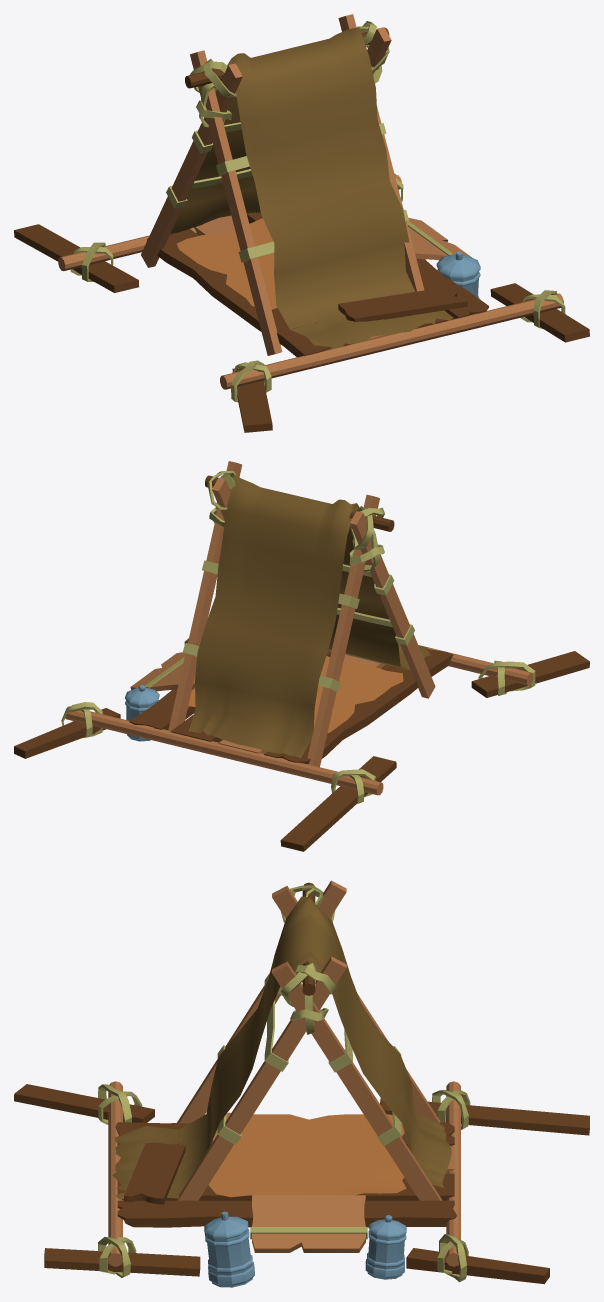
File: Main_Building.fbx
3 renders of one model, top to bottom at view 1: azimuth 30°, elevation 25°; view 2: azimuth 150°, elevation 25°; view 3: azimuth 270°, elevation 25°, orthographic. The views are drawn at different scales.
Visible parts, largest first — view 1: Main_Building; view 2: Main_Building; view 3: Main_Building.
Part boxes in pixels (bbox=[...]): Main_Building: bbox=[14, 14, 589, 432]; Main_Building: bbox=[14, 461, 589, 851]; Main_Building: bbox=[14, 880, 589, 1287].
Bounding box in the file's own units: 70.28 × 50.31 × 89.83.
